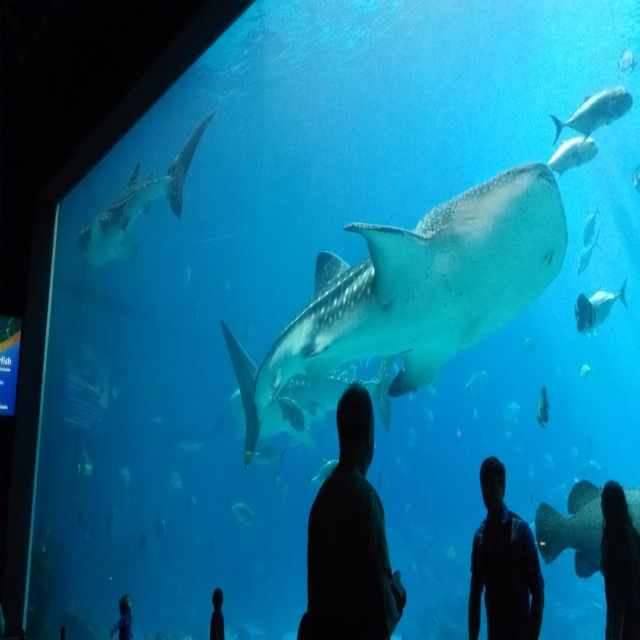Shark: (221, 162, 568, 470), (75, 114, 216, 269)
